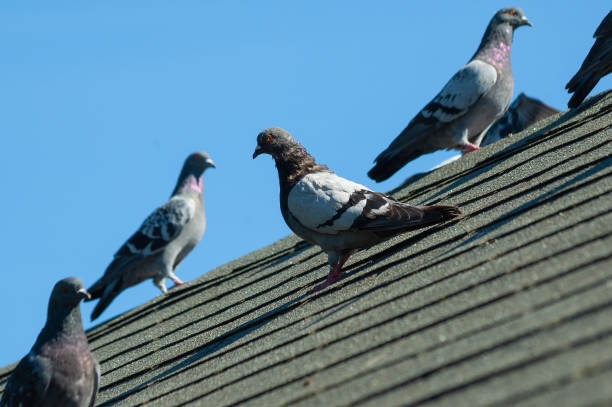Bird: (250, 124, 463, 289), (366, 3, 533, 185), (77, 145, 229, 322), (2, 274, 107, 405)
